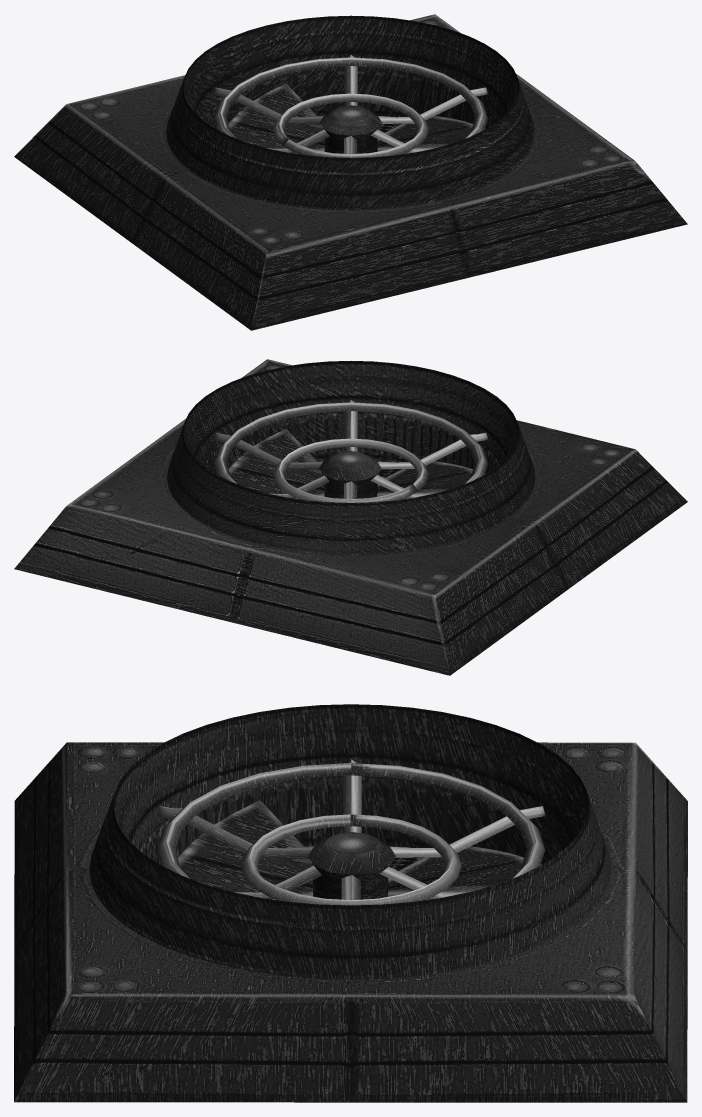
The model's file is Industrial_Fan74.fbx.
The picture shows the model from 3 angles, top to bottom: view 1: azimuth 30°, elevation 25°; view 2: azimuth 150°, elevation 25°; view 3: azimuth 270°, elevation 25°; orthographic projection. The views are drawn at different scales.
Parts seen in each view (by area): view 1: Industrial_Fan_1, Industrial_Fan_2; view 2: Industrial_Fan_1, Industrial_Fan_2; view 3: Industrial_Fan_1, Industrial_Fan_2.
Boxes of the visible parts, bbox=[...] form: Industrial_Fan_1: bbox=[14, 14, 687, 330]; Industrial_Fan_2: bbox=[228, 83, 485, 154]; Industrial_Fan_1: bbox=[14, 359, 687, 675]; Industrial_Fan_2: bbox=[228, 429, 485, 499]; Industrial_Fan_1: bbox=[14, 704, 687, 1102]; Industrial_Fan_2: bbox=[178, 800, 541, 900].
Size of the model in its own units: 297 by 67.43 by 280.
